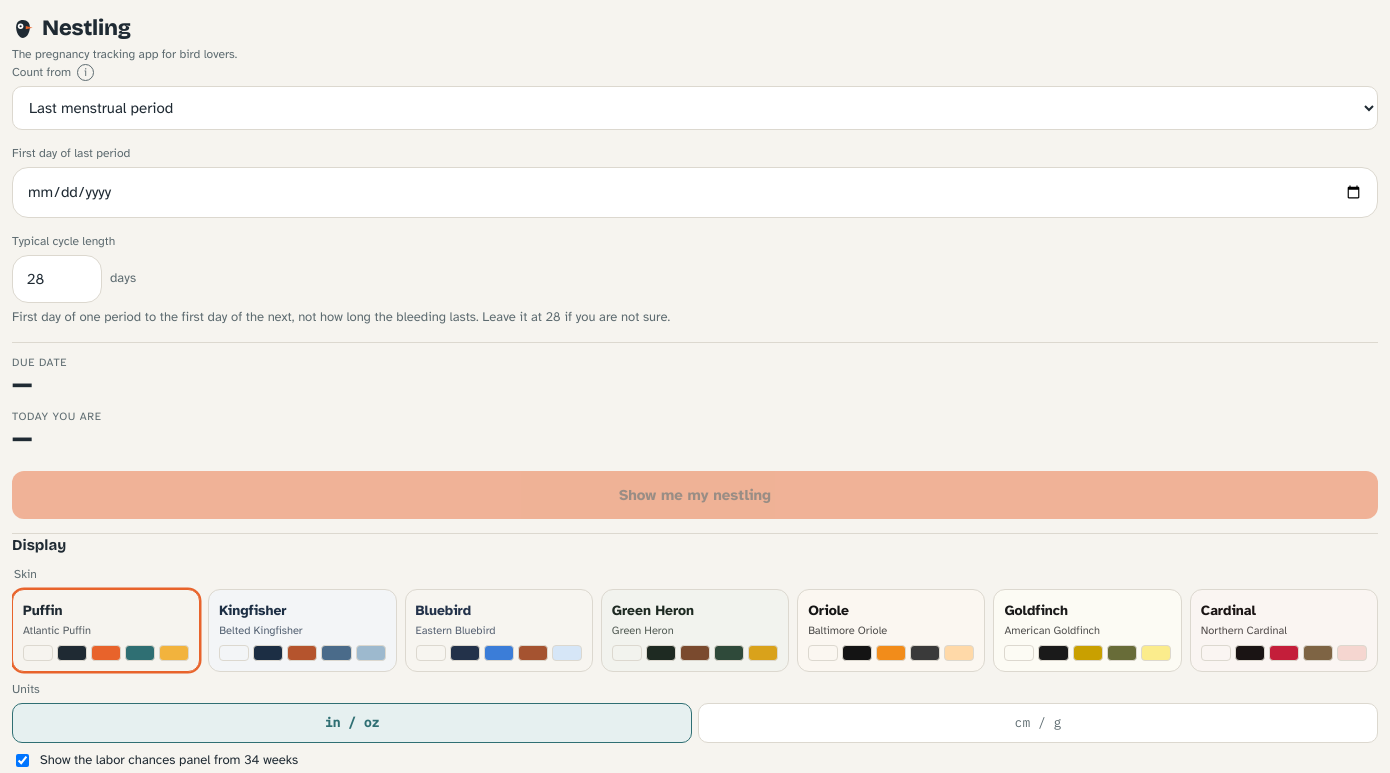
Setup screen (mockup 1) › closes the details on Escape and on an outside click
The image size is (1390, 773).
Click the button named "How each method is calculated" at (86, 72), box [77,64,94,80]
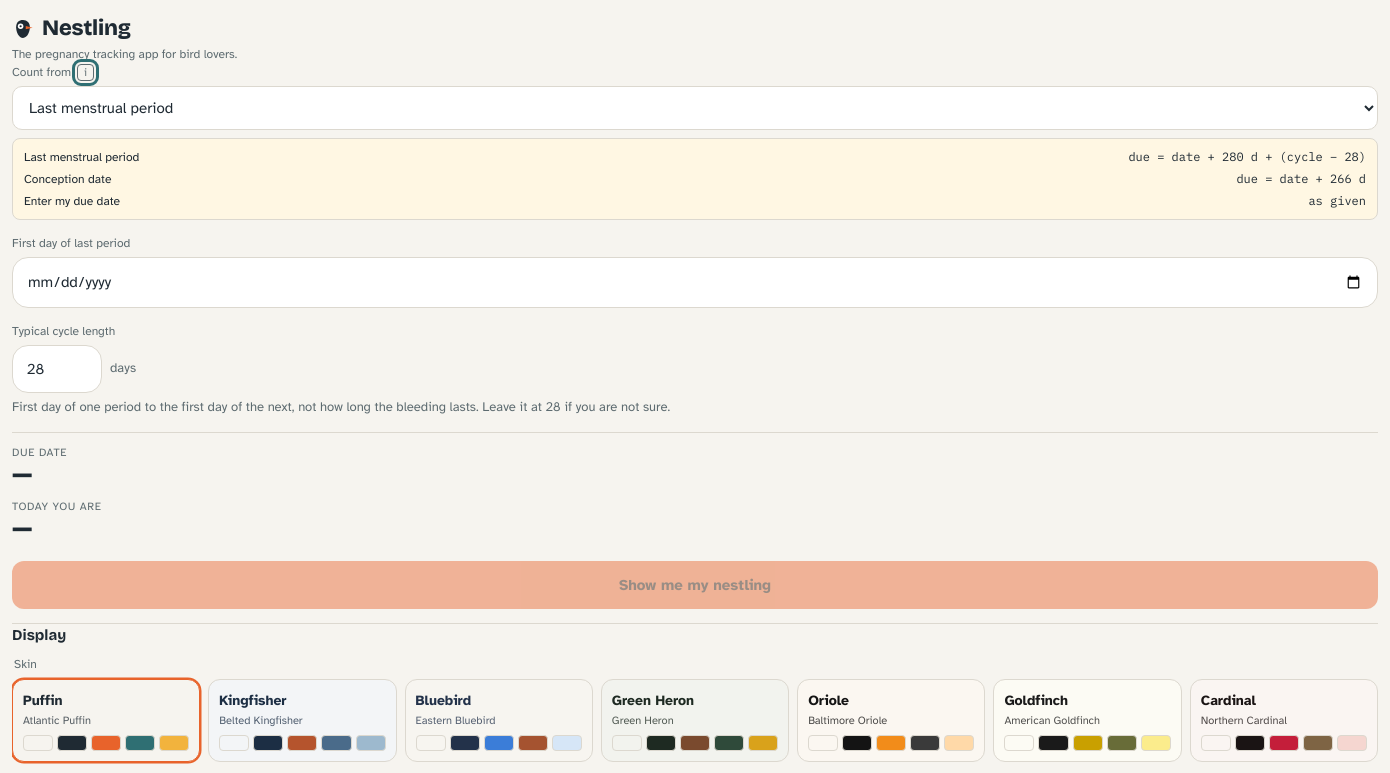
Press Escape
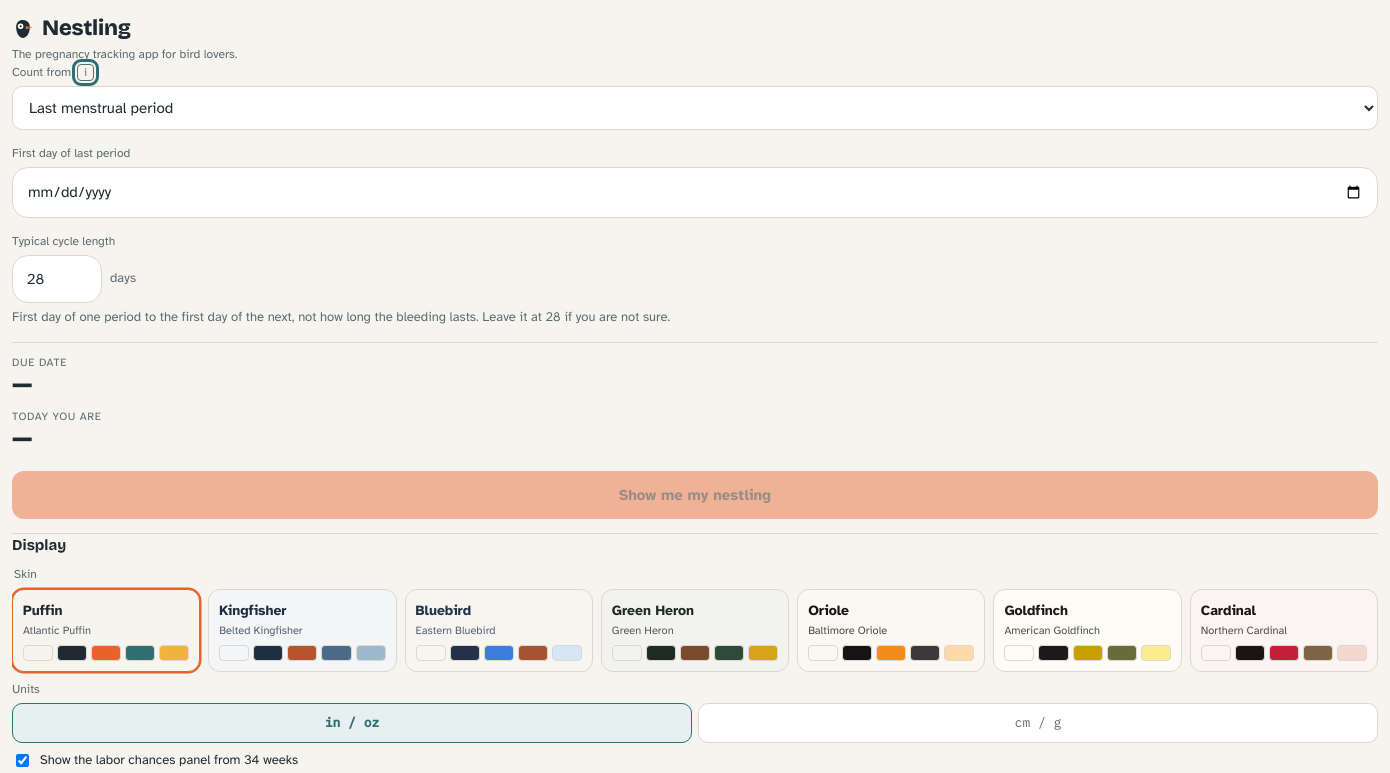
Click the button named "How each method is calculated" at (86, 72), box [77,64,94,80]
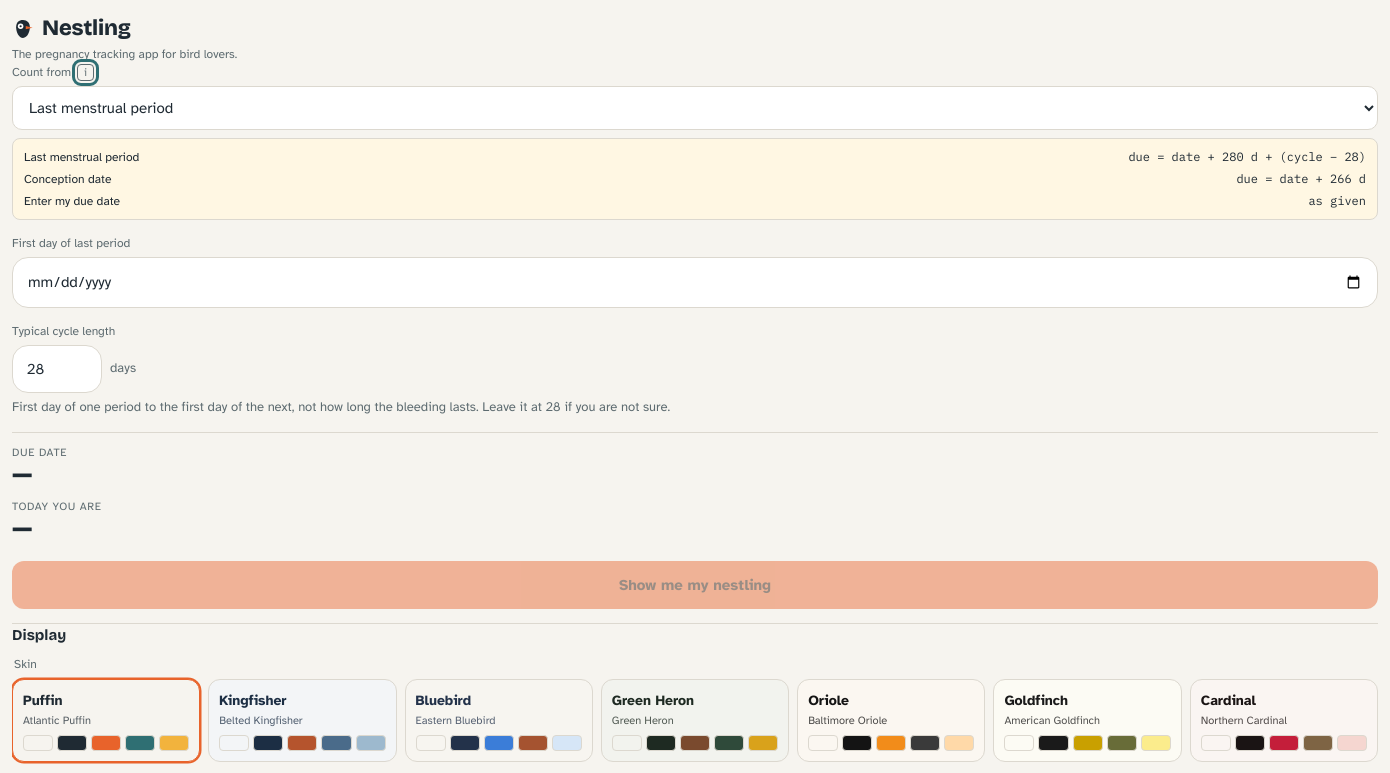
Click the text with class "setup__tagline" at (125, 54), box [12,47,237,61]
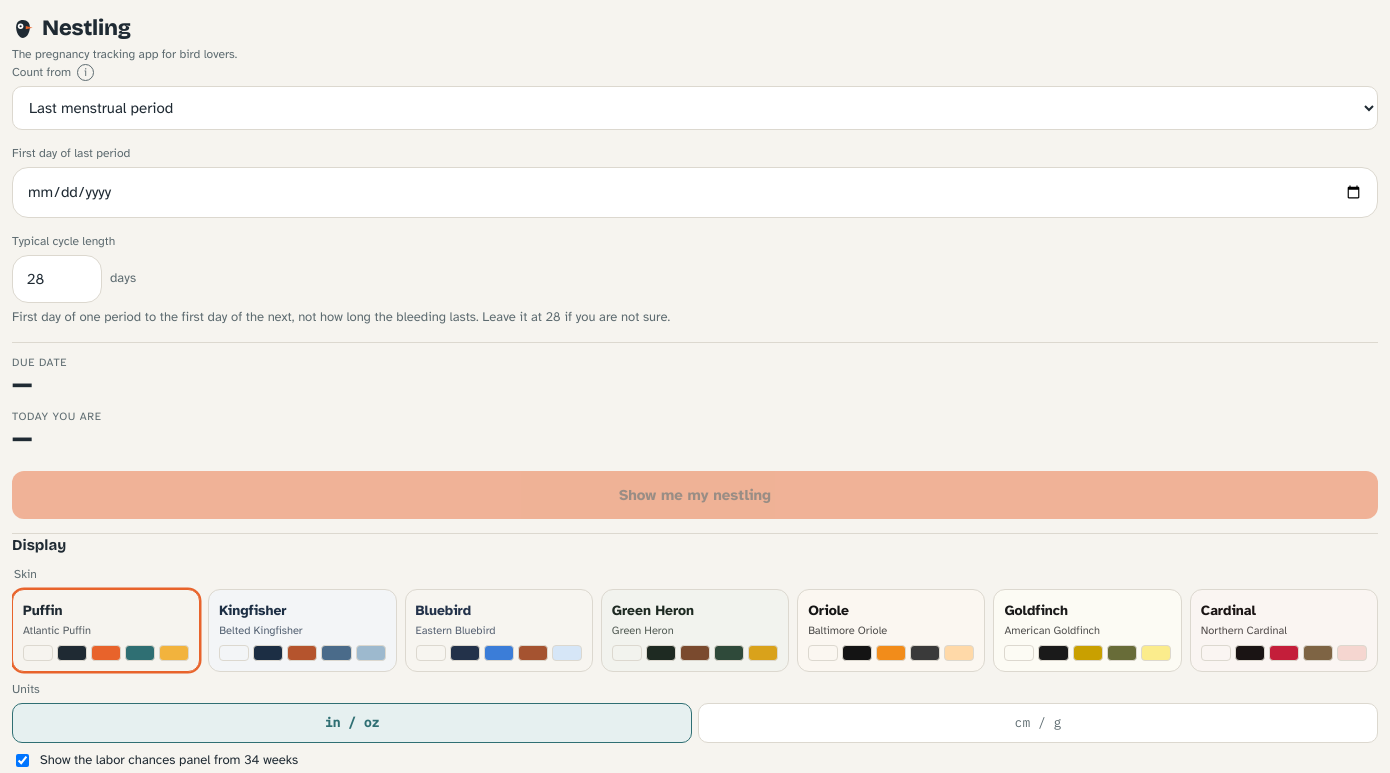
Now the button named "How each method is calculated" is collapsed, box [77,64,94,80]
